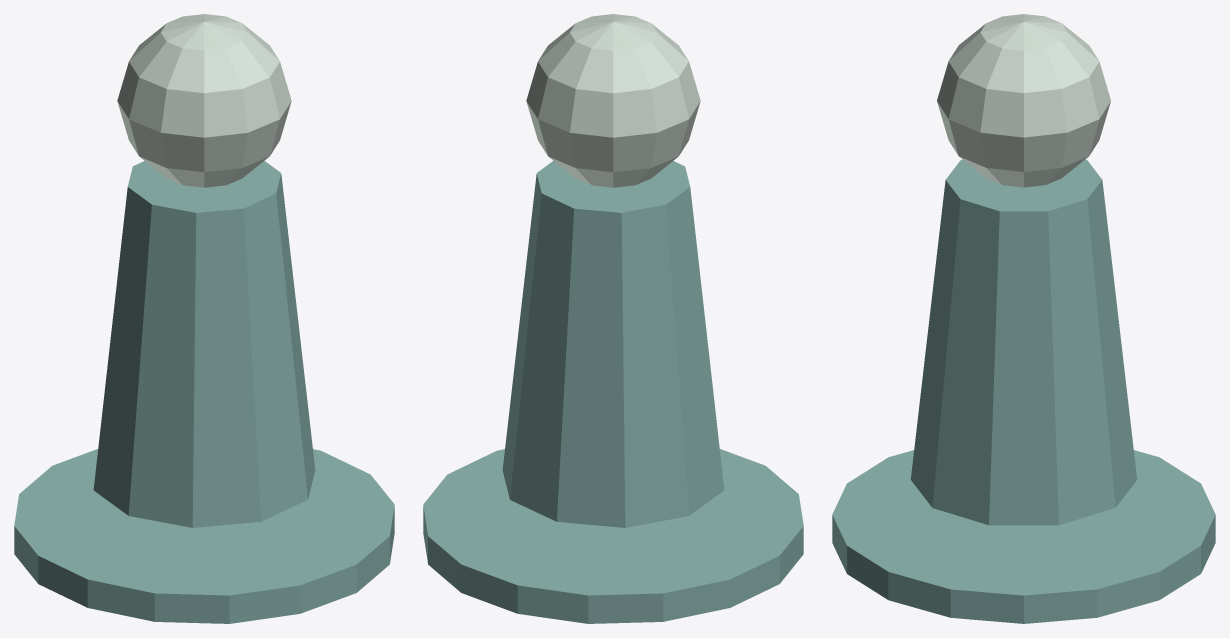
File: player-marker.glb
3 views of the same model, side by side, from view 1: azimuth 30°, elevation 25°; view 2: azimuth 150°, elevation 25°; view 3: azimuth 270°, elevation 25° (orthographic).
Parts seen in each view (by area): view 1: GenericBody, GenericHead; view 2: GenericBody, GenericHead; view 3: GenericBody, GenericHead.
Boxes of the visible parts, <box> form: GenericBody: <box>14,161,394,623</box>; GenericHead: <box>117,14,291,187</box>; GenericBody: <box>423,161,803,623</box>; GenericHead: <box>526,14,700,187</box>; GenericBody: <box>832,159,1215,623</box>; GenericHead: <box>937,14,1110,187</box>.
Bounding box in the file's own units: 2.2 × 3.3 × 2.2.
